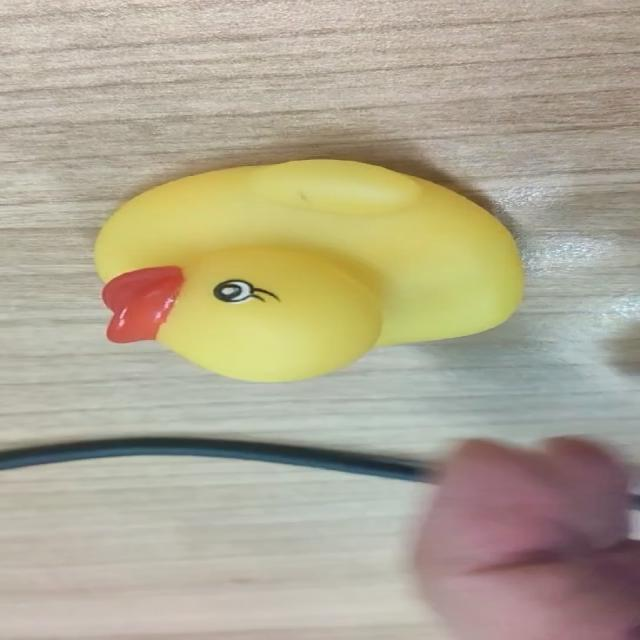rubber-duck: (94, 158, 521, 380)
